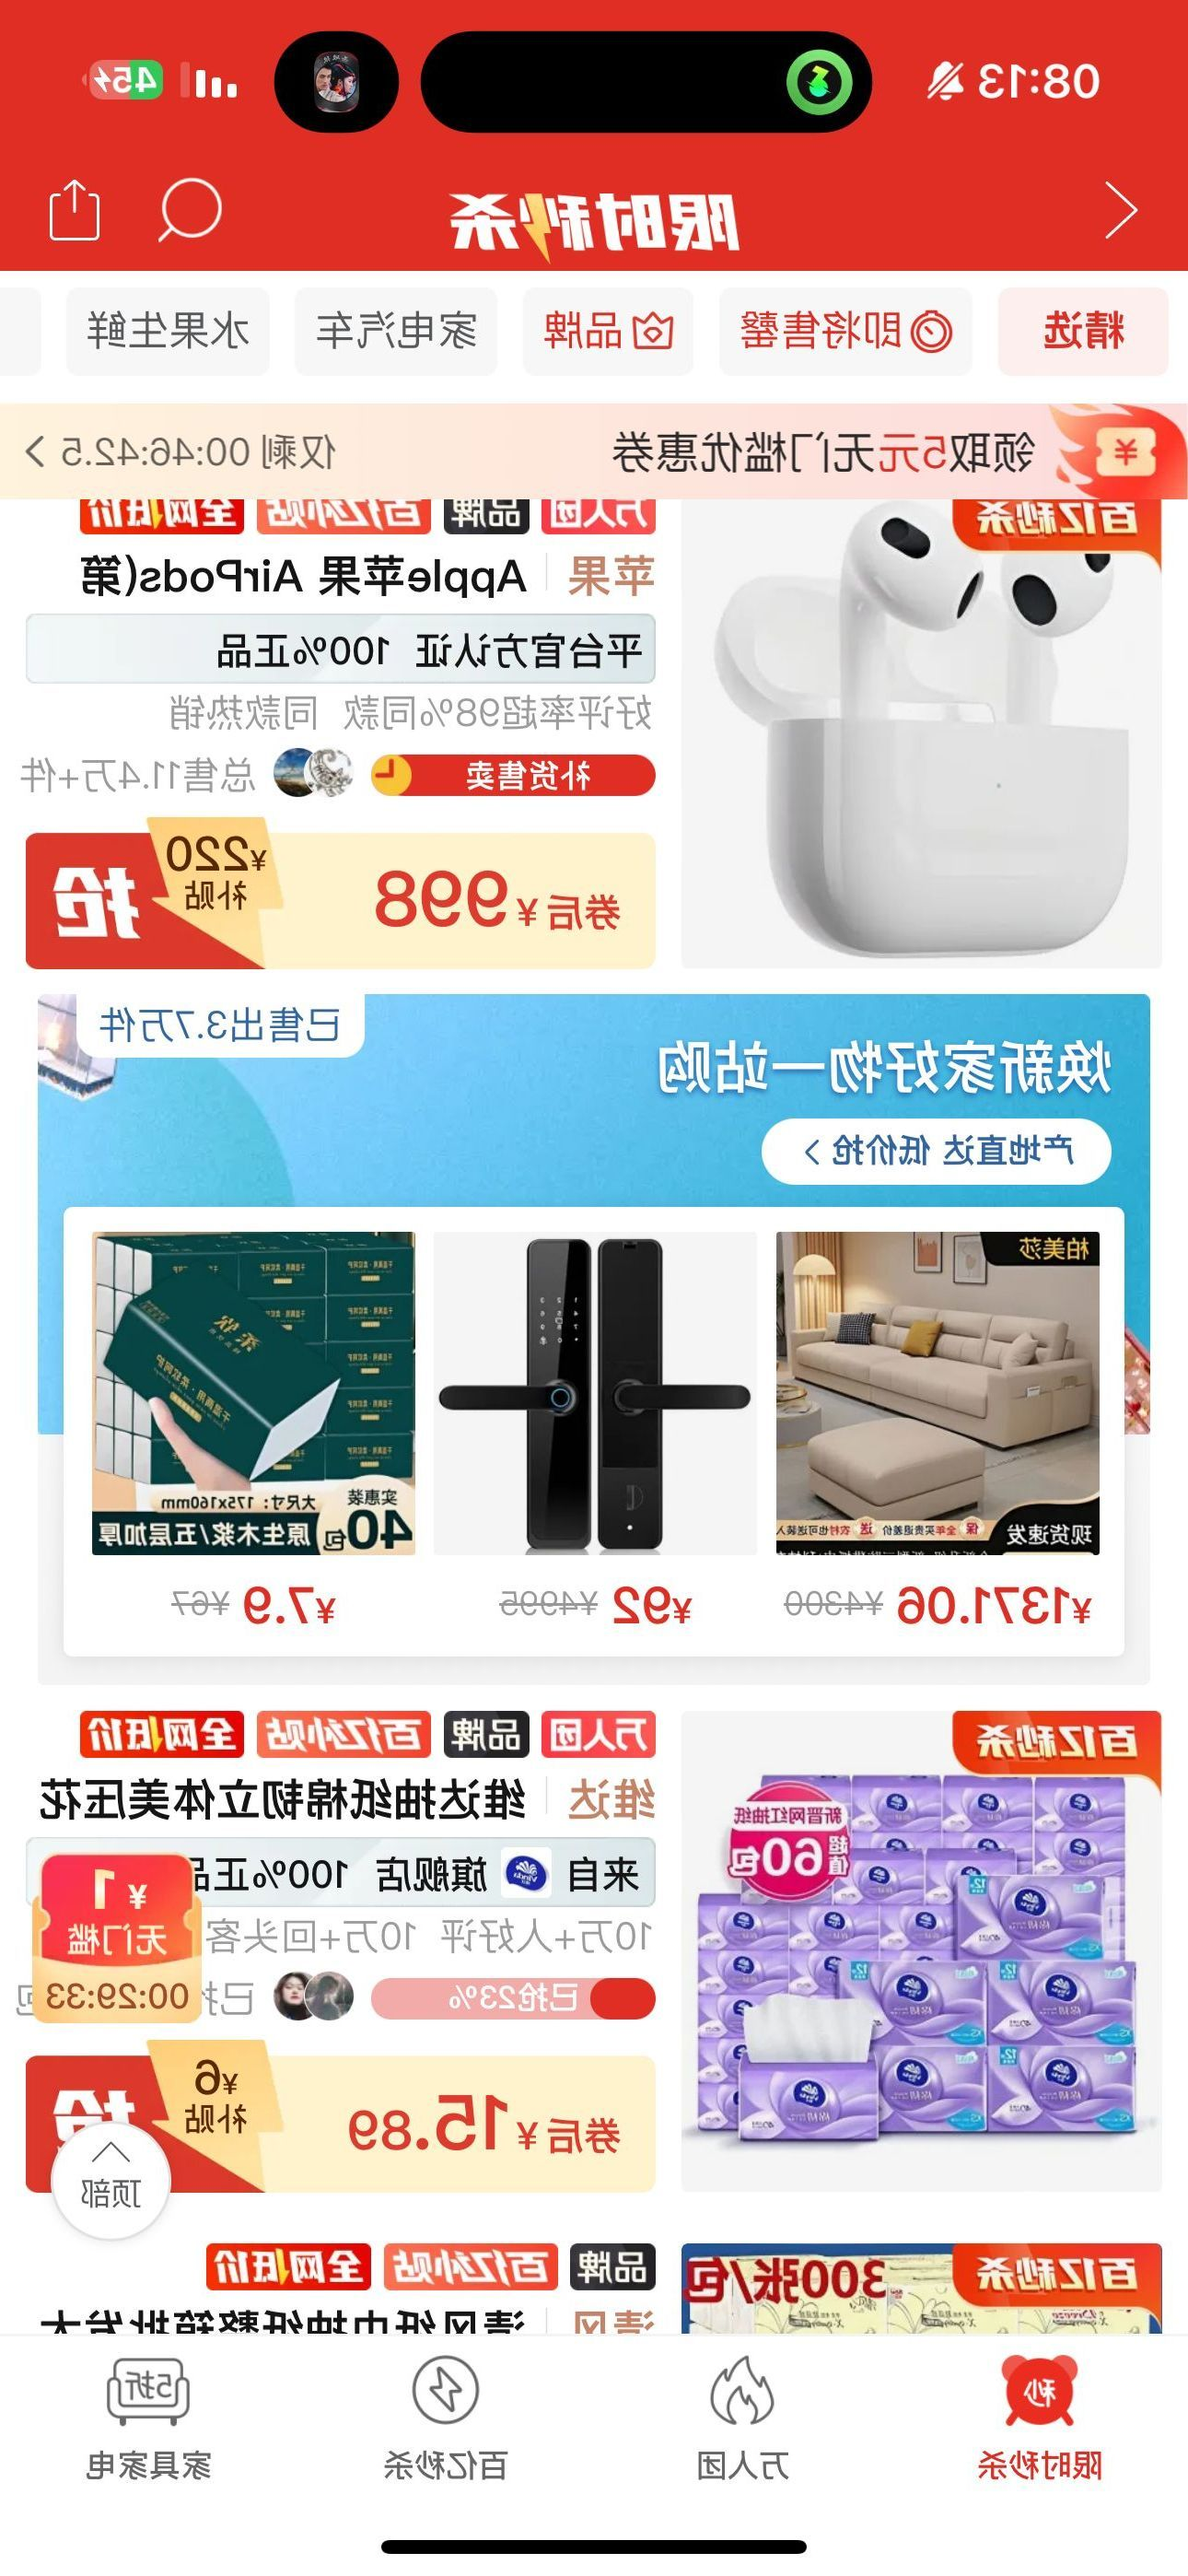banner: (12, 986, 1167, 1699), (7, 401, 1188, 496)
item: (7, 1697, 1175, 2210)
op_bar: (5, 156, 1183, 279)
